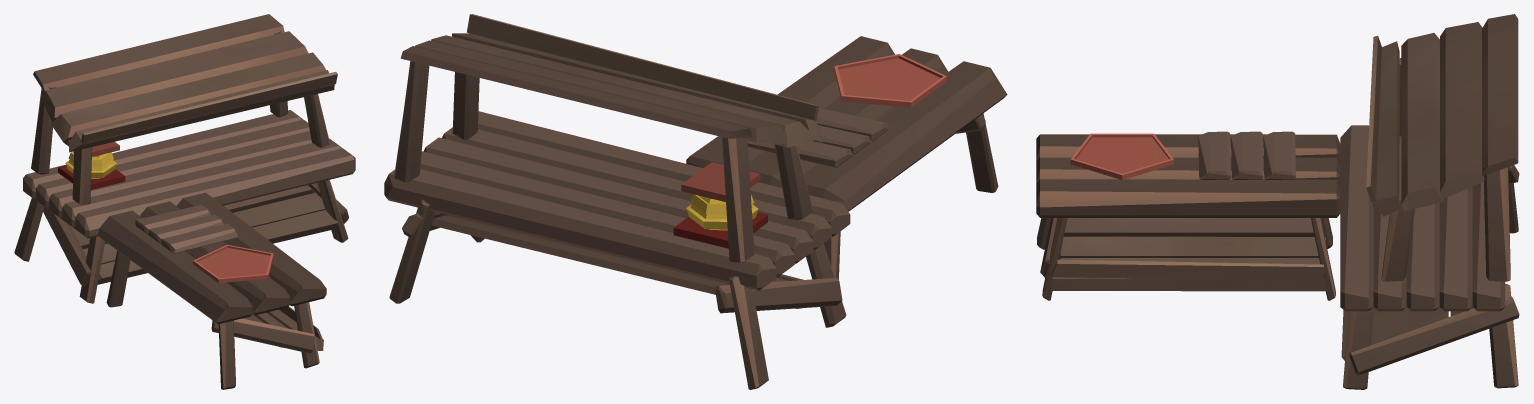
File: shop_1lvl.fbx
The picture shows the model from 3 angles, left to right: view 1: azimuth 30°, elevation 25°; view 2: azimuth 150°, elevation 25°; view 3: azimuth 270°, elevation 25°; orthographic projection. The views are drawn at different scales.
Parts seen in each view (by area): view 1: shop_1lvl; view 2: shop_1lvl; view 3: shop_1lvl.
Boxes of the visible parts, bbox=[...] form: shop_1lvl: bbox=[14, 14, 355, 389]; shop_1lvl: bbox=[384, 14, 1007, 389]; shop_1lvl: bbox=[1036, 14, 1519, 389].
Size of the model in its own units: 3 by 1.91 by 3.65.
